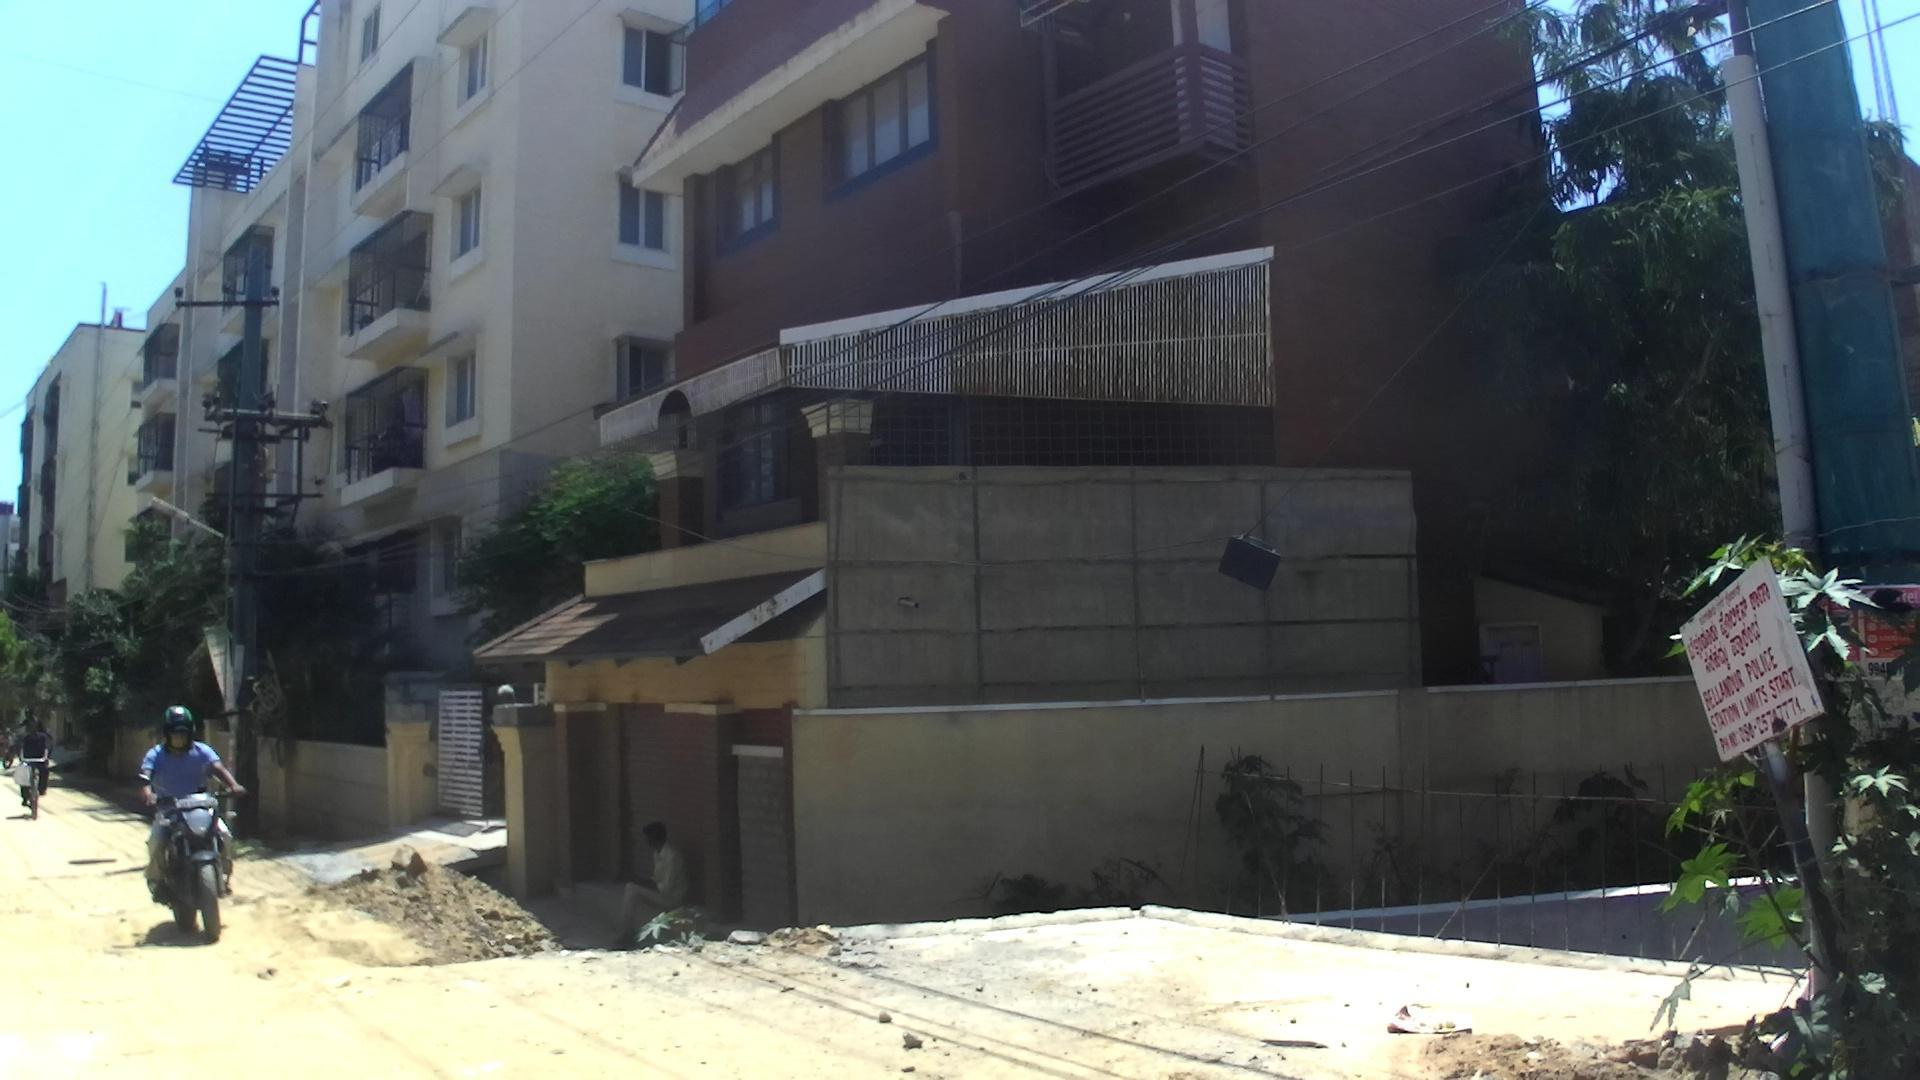off: (0, 0, 1920, 1051)
